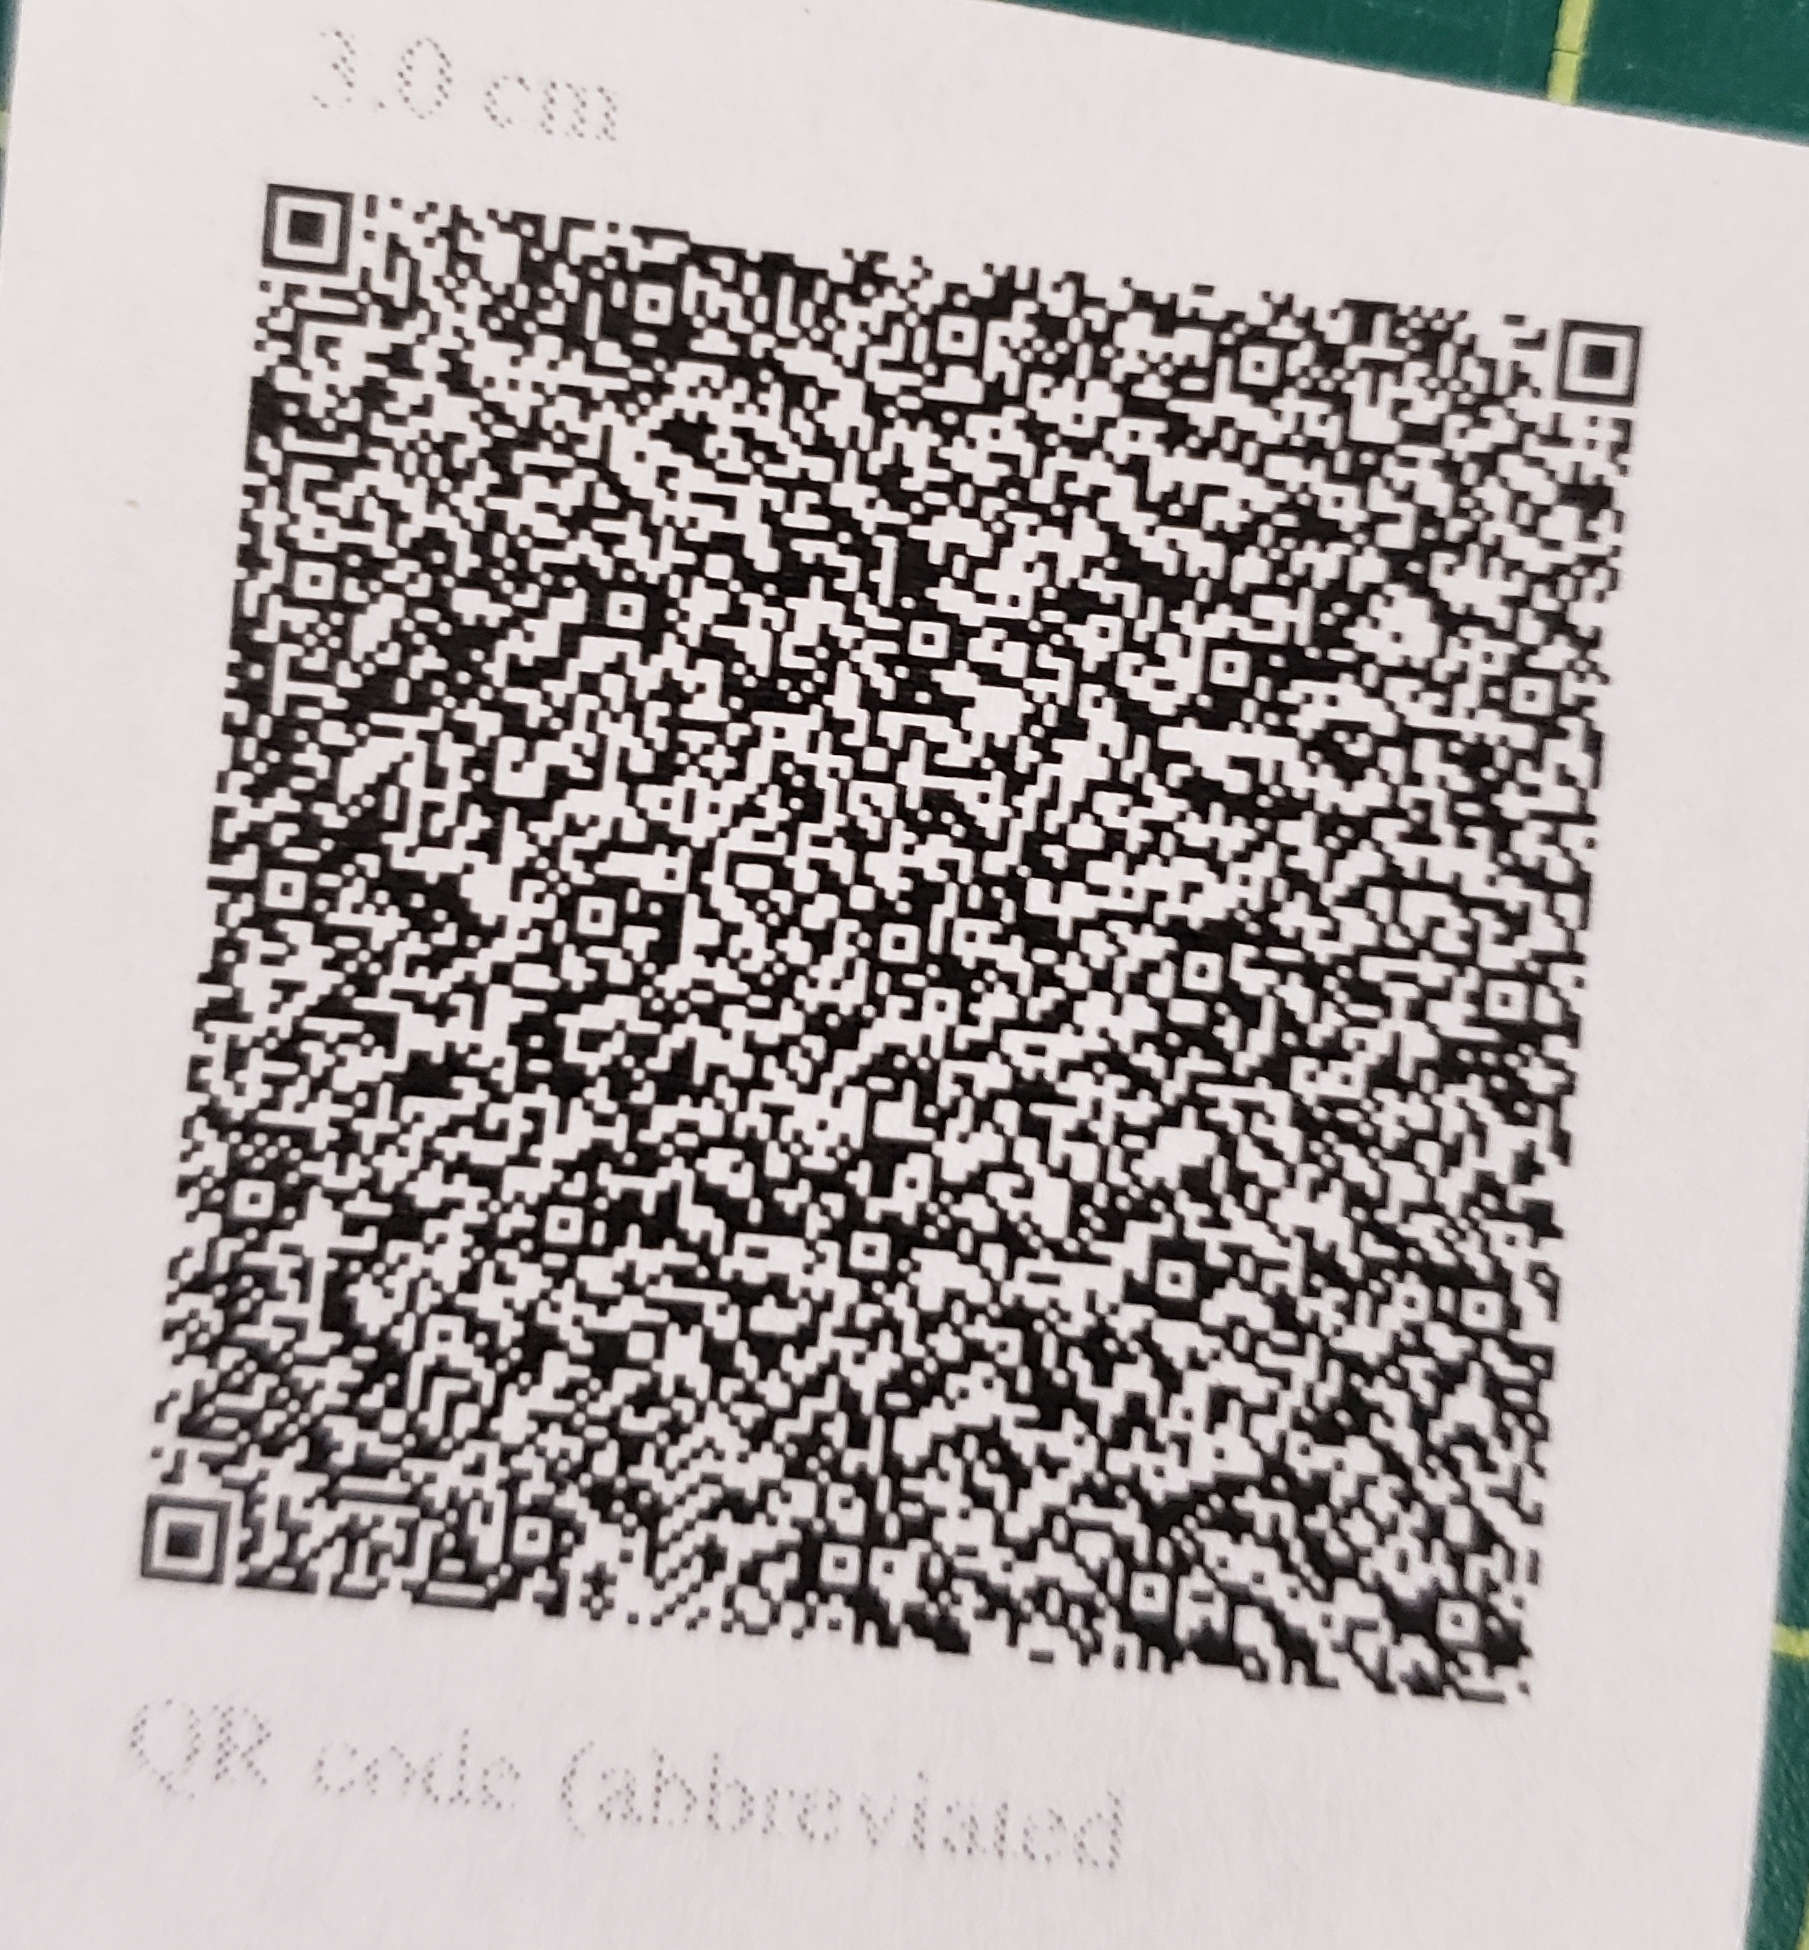QR_CODE: (121, 114, 1675, 1787)
